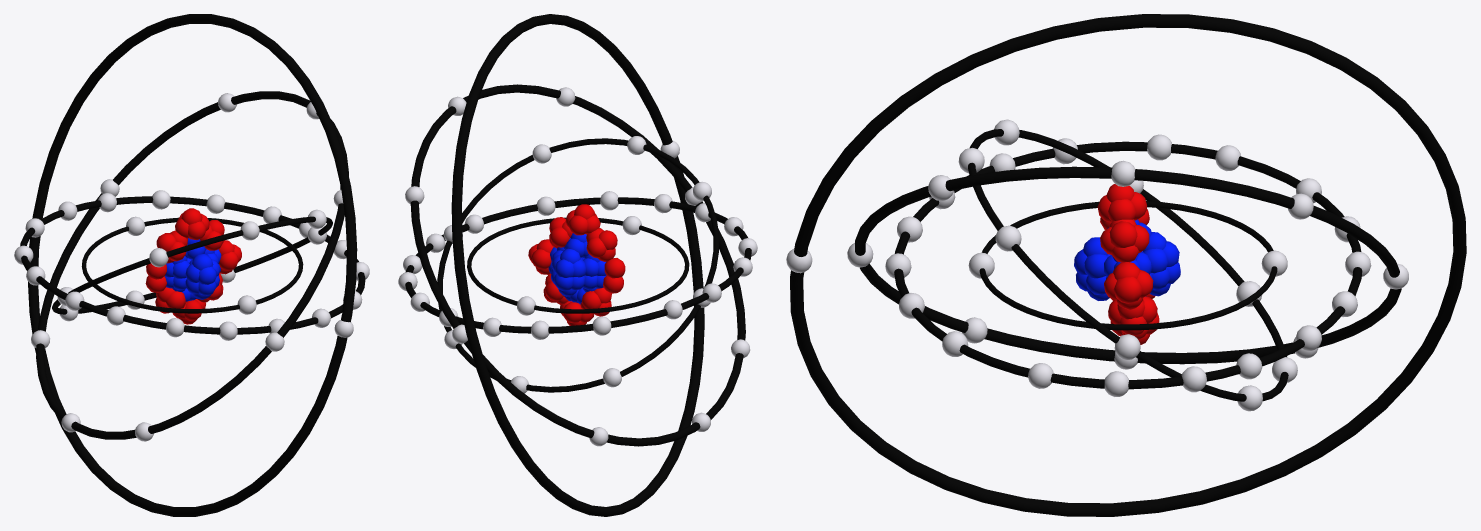
File: 37 Rubidio.fbx
The picture shows the model from 3 angles, left to right: view 1: azimuth 30°, elevation 25°; view 2: azimuth 150°, elevation 25°; view 3: azimuth 270°, elevation 25°; orthographic projection. The views are drawn at different scales.
Visible parts, largest first — view 1: Orbita.005, Orbita.004, Sphere.011, Orbita.003, Orbita.002, Orbita.001; view 2: Orbita.005, Orbita.004, Sphere.011, Orbita.002, Orbita.003, Orbita.001; view 3: Orbita.005, Orbita.004, Sphere.011, Orbita.003, Orbita.002, Orbita.001.
Part boxes in pixels (x1=…): Orbita.005: x1=28, y1=14, x2=357, y2=516; Orbita.004: x1=36, y1=91, x2=348, y2=439; Sphere.011: x1=145, y1=208, x2=241, y2=324; Orbita.003: x1=20, y1=196, x2=365, y2=334; Orbita.002: x1=52, y1=216, x2=332, y2=314; Orbita.001: x1=81, y1=217, x2=303, y2=313; Orbita.005: x1=451, y1=14, x2=704, y2=516; Orbita.004: x1=410, y1=84, x2=745, y2=446; Sphere.011: x1=528, y1=204, x2=625, y2=325; Orbita.002: x1=437, y1=138, x2=718, y2=392; Orbita.003: x1=405, y1=197, x2=751, y2=333; Orbita.001: x1=467, y1=217, x2=689, y2=313; Orbita.005: x1=790, y1=14, x2=1466, y2=516; Orbita.004: x1=855, y1=166, x2=1401, y2=364; Sphere.011: x1=1074, y1=184, x2=1180, y2=344; Orbita.003: x1=894, y1=141, x2=1362, y2=389; Orbita.002: x1=968, y1=129, x2=1288, y2=401; Orbita.001: x1=979, y1=201, x2=1277, y2=330.
Bounding box in the file's own units: 17.61 × 12.43 × 16.8.
